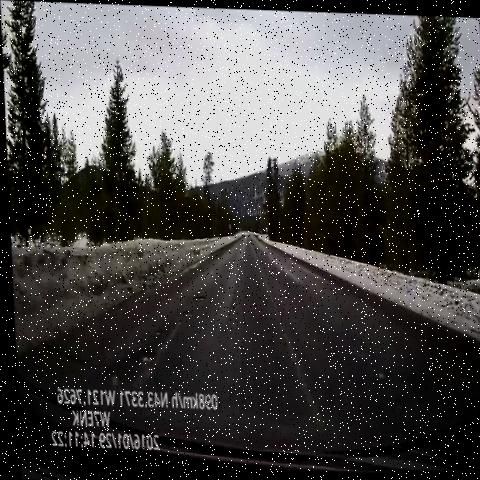pothole: (125, 339, 158, 373), (147, 319, 168, 344), (186, 288, 209, 305), (179, 305, 197, 324), (253, 240, 269, 254)
